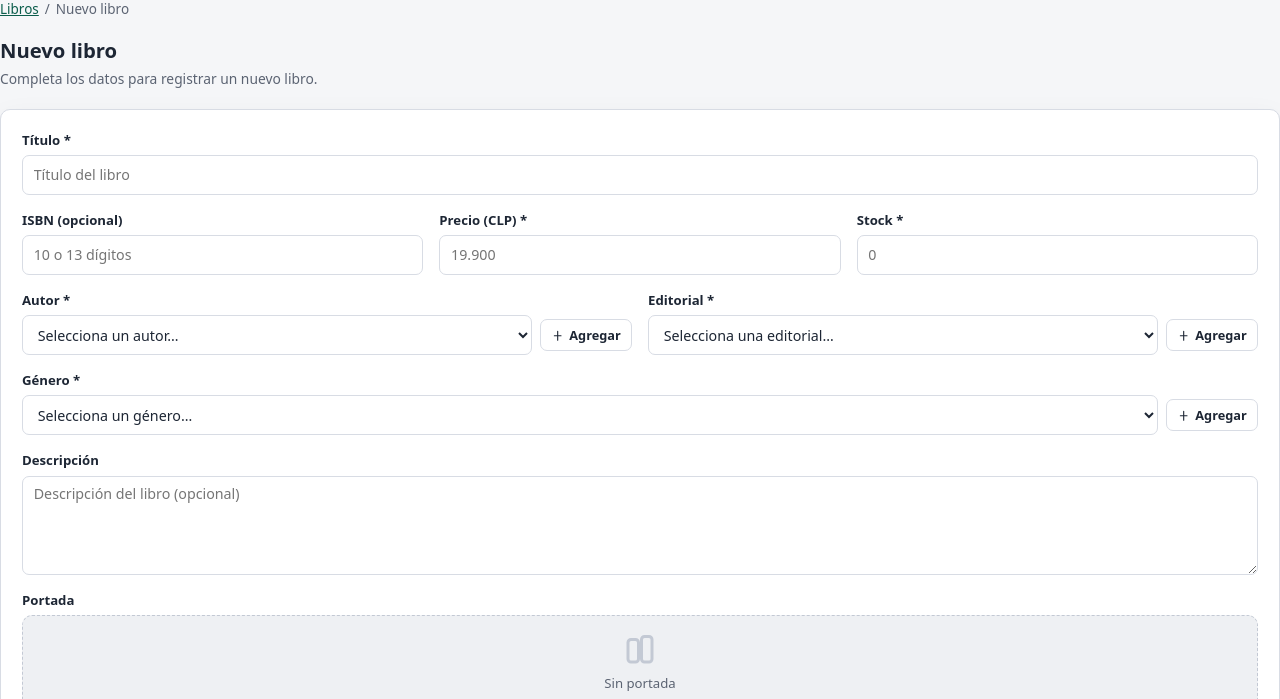
BookFormPage (inline catalog creation) › opens the catalog modal with the right title from Agregar autor
The image size is (1280, 699).
Click the button with aria-label "Agregar autor": (586, 335) x1=540 y1=319 x2=632 y2=351
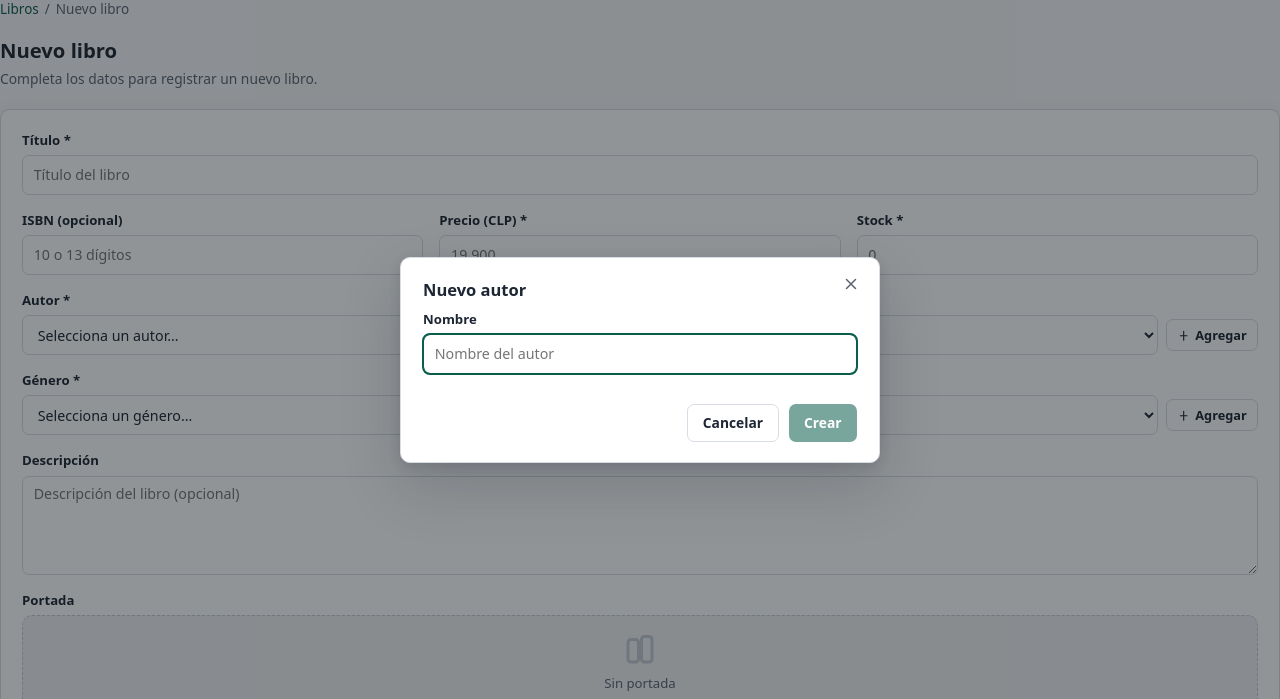
Check: the dialog is shown, box x1=400 y1=257 x2=880 y2=463
Check: the heading "Nuevo autor" is shown, box x1=423 y1=278 x2=526 y2=301
Check: the field labelled "Nombre" is shown, box x1=423 y1=334 x2=857 y2=374
